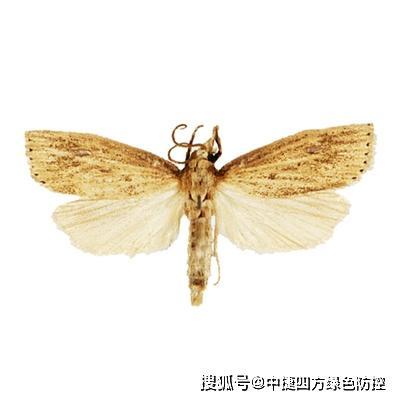Crambidae: (23, 117, 381, 309)
